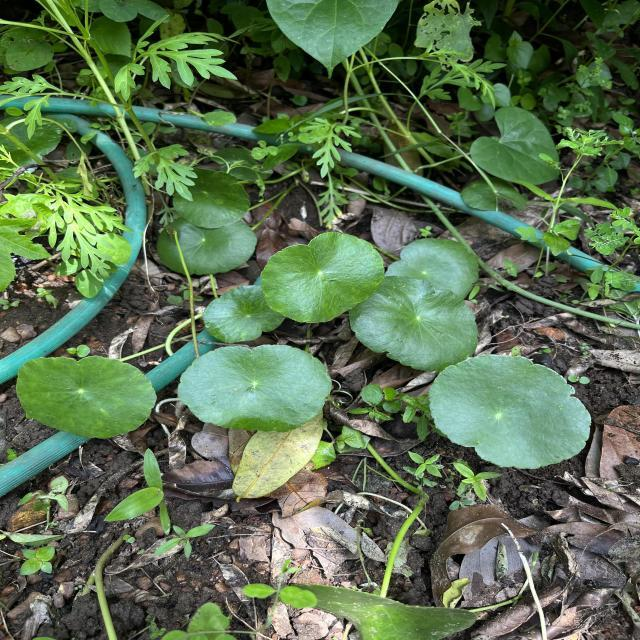Bacopa monnieri: (426, 352, 594, 472), (176, 342, 334, 434), (346, 272, 483, 373), (13, 353, 161, 442), (257, 228, 389, 326), (380, 236, 482, 302), (153, 217, 261, 277), (201, 282, 290, 344)
